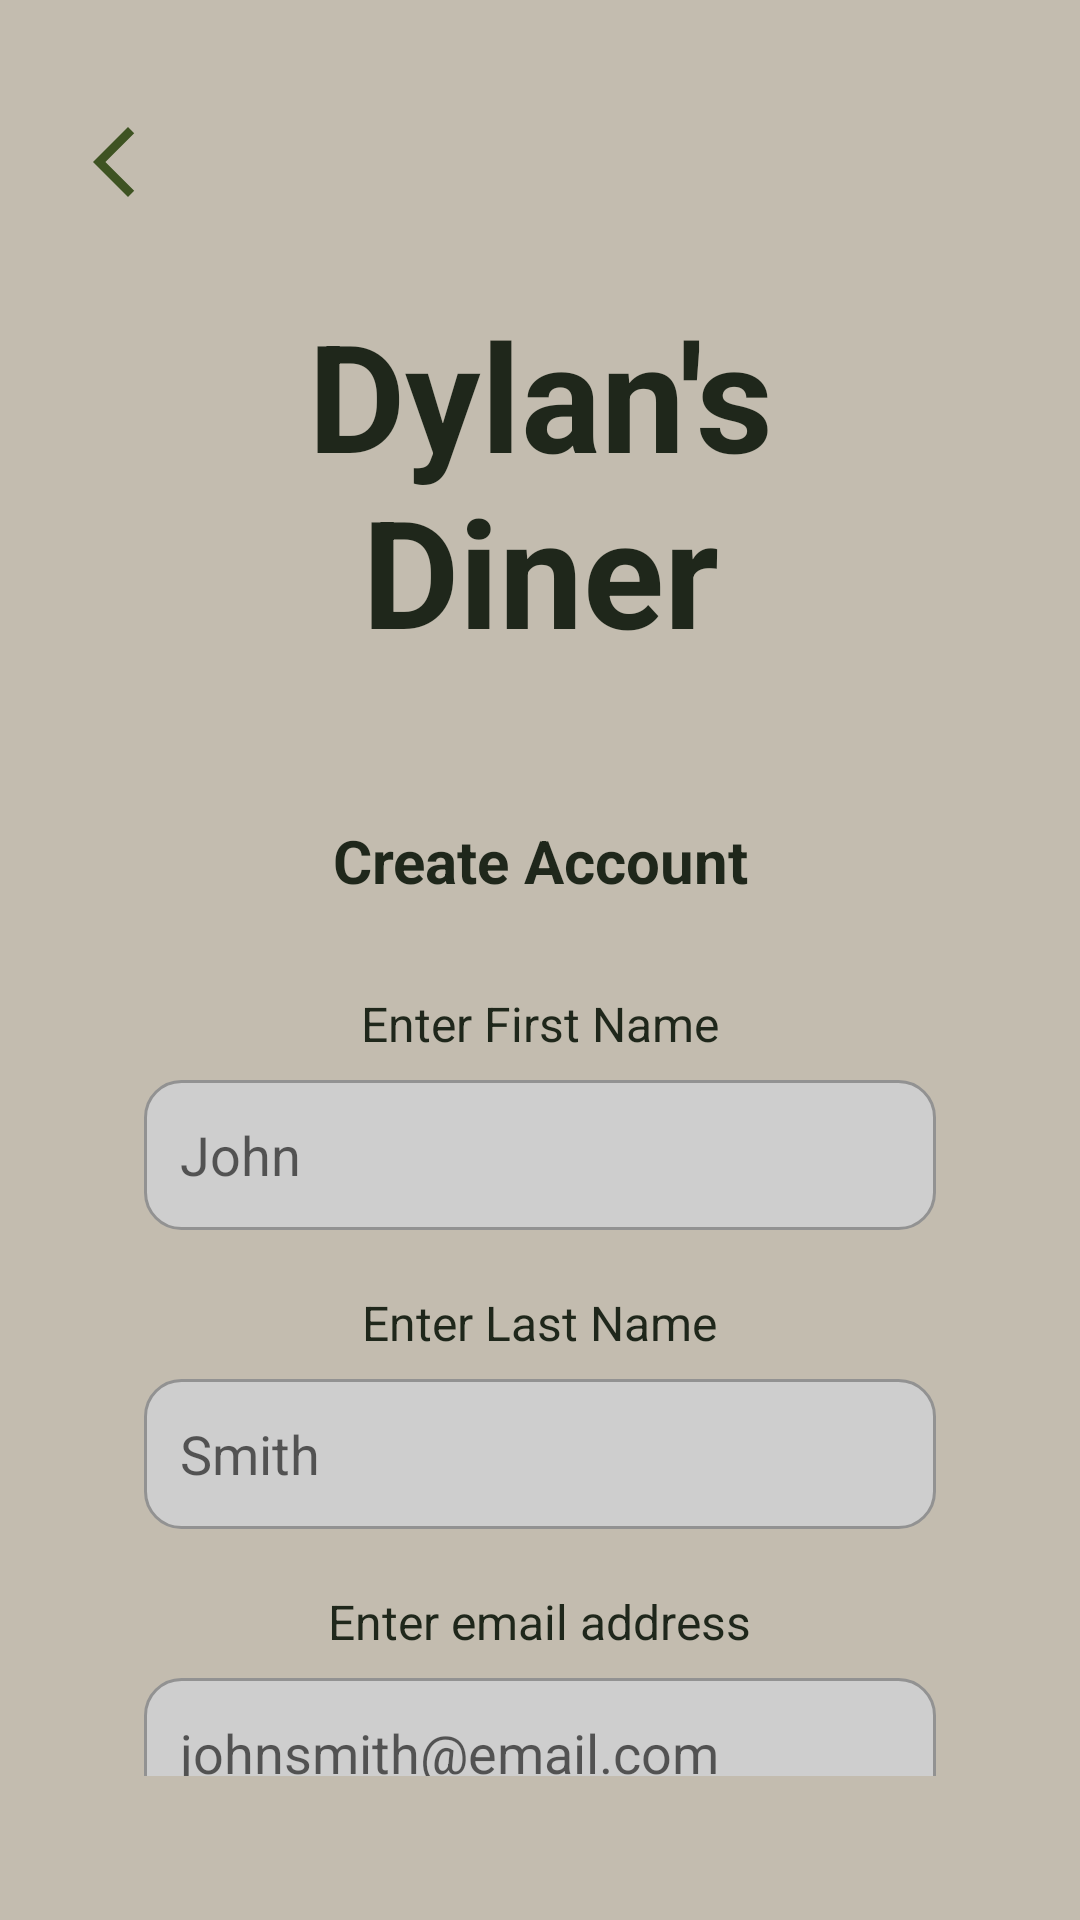

Icons on this 1080px×1920px Android screen, each with the point to tap as (x,y):
Back: (113,162)
